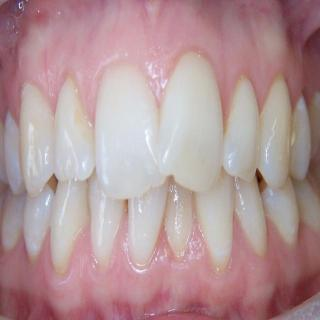LL1BC_healthy: (264, 187, 300, 245)
LL2BC_healthy: (299, 183, 319, 229)
LLCI_healthy: (165, 186, 194, 253)
LLC_healthy: (235, 180, 268, 250)
LLLI_healthy: (196, 185, 234, 260)
LR1BC_healthy: (24, 192, 51, 256)
LR2BC_healthy: (1, 194, 24, 248)
LRCI_healthy: (129, 192, 164, 260)
LRC_healthy: (51, 181, 88, 269)
LRLI_healthy: (90, 194, 125, 259)
UL1BC_healthy: (293, 95, 311, 181)
ULCI_healthy: (162, 52, 222, 191)
ULC_healthy: (261, 76, 292, 187)
ULLI_healthy: (224, 75, 259, 181)
UR1BC_healthy: (3, 113, 21, 193)
URCI_healthy: (94, 66, 164, 199)
URC_healthy: (20, 87, 53, 195)
URLI_healthy: (53, 77, 93, 180)
